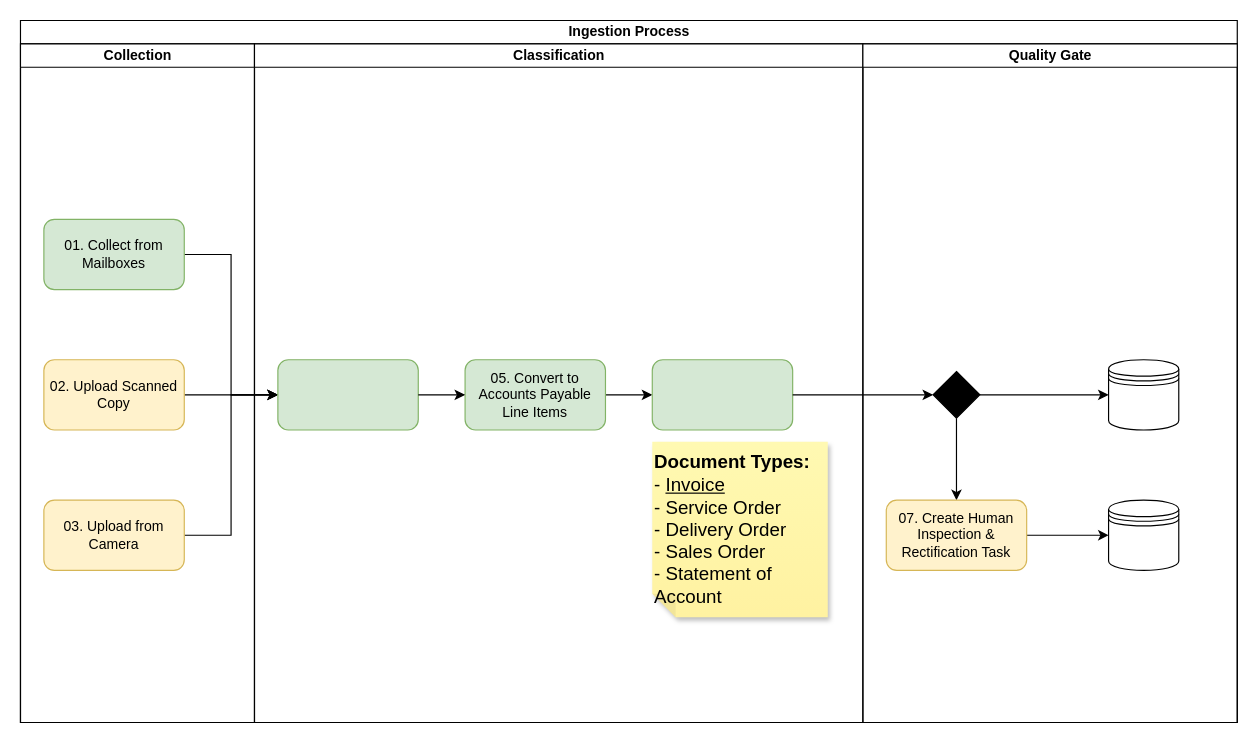
This 1258x743 diagram has some shape labels left out. Each missing label, with the centre of its shape:
04. Extract Raw information: [347,394]
06. Classify the Document Type: [722,394]
Confidence meet threshold?: [956,394]
Store info to DB: [1143,394]
Store task to DB: [1143,534]
